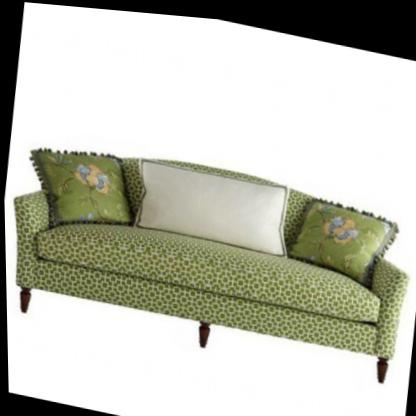Sofa: (2, 119, 416, 384)
